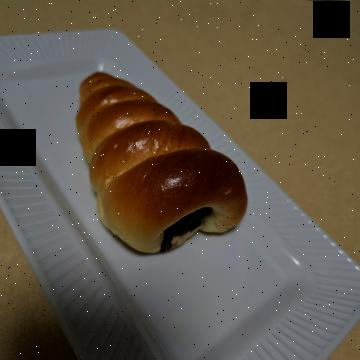cream horn: (50, 98, 270, 294)
